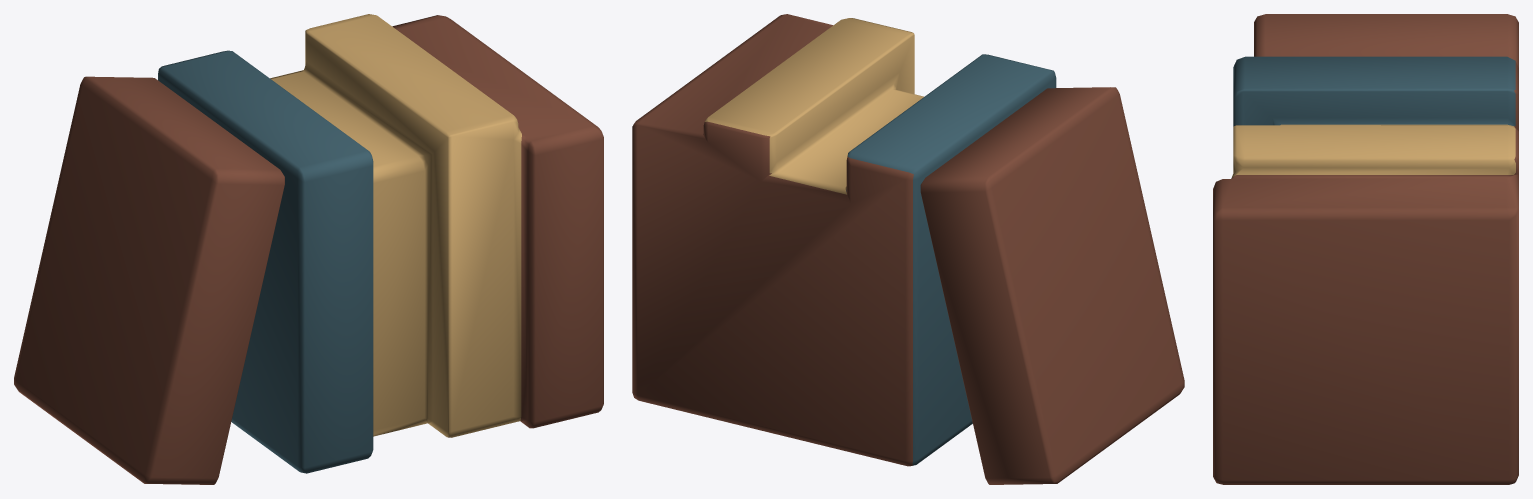
File: sill-books.glb
3 renders of one model, left to right at view 1: azimuth 30°, elevation 25°; view 2: azimuth 150°, elevation 25°; view 3: azimuth 270°, elevation 25°, orthographic. The views are drawn at different scales.
Visible parts, largest first — view 1: sill-books; view 2: sill-books; view 3: sill-books.
Part boxes in pixels (bbox=[...]): sill-books: bbox=[14, 14, 603, 484]; sill-books: bbox=[632, 14, 1184, 484]; sill-books: bbox=[1213, 14, 1518, 484].
Size of the model in its own units: 0.1499 by 0.1036 by 0.0945.
